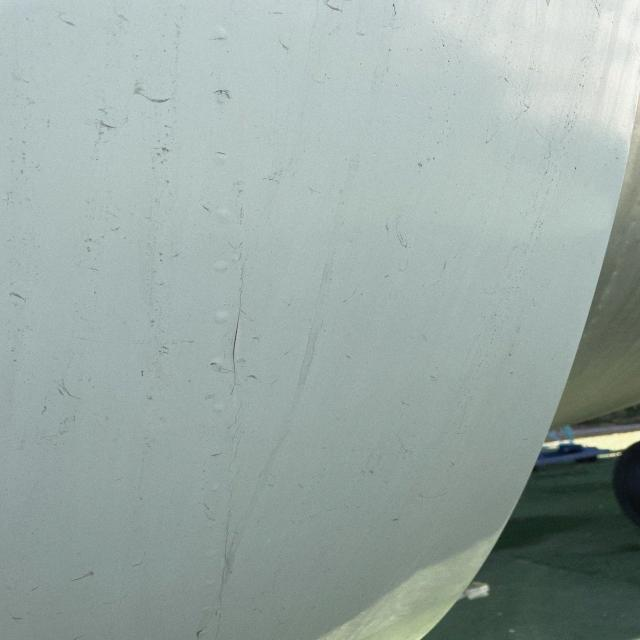crack: (217, 273, 267, 425)
